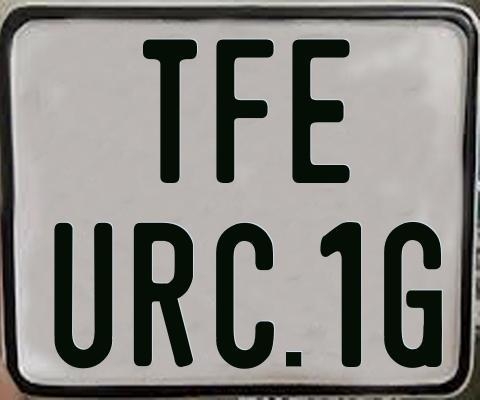1: (319, 222, 361, 367)
C: (213, 220, 274, 371)
E: (291, 39, 355, 184)
F: (216, 36, 276, 185)
G: (382, 222, 441, 374)
R: (133, 221, 198, 365)
T: (142, 38, 201, 184)
U: (52, 222, 114, 372)
